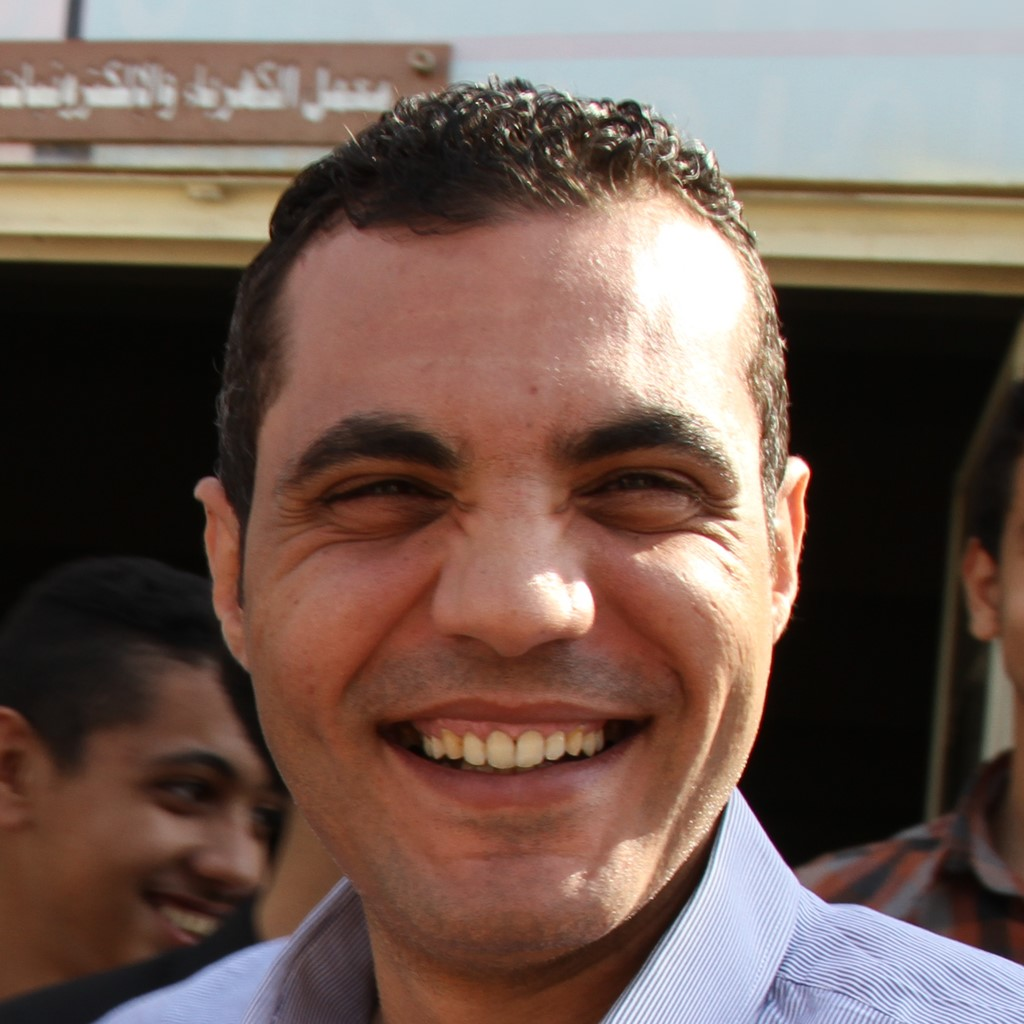sin_mascara: (220, 125, 800, 979)
